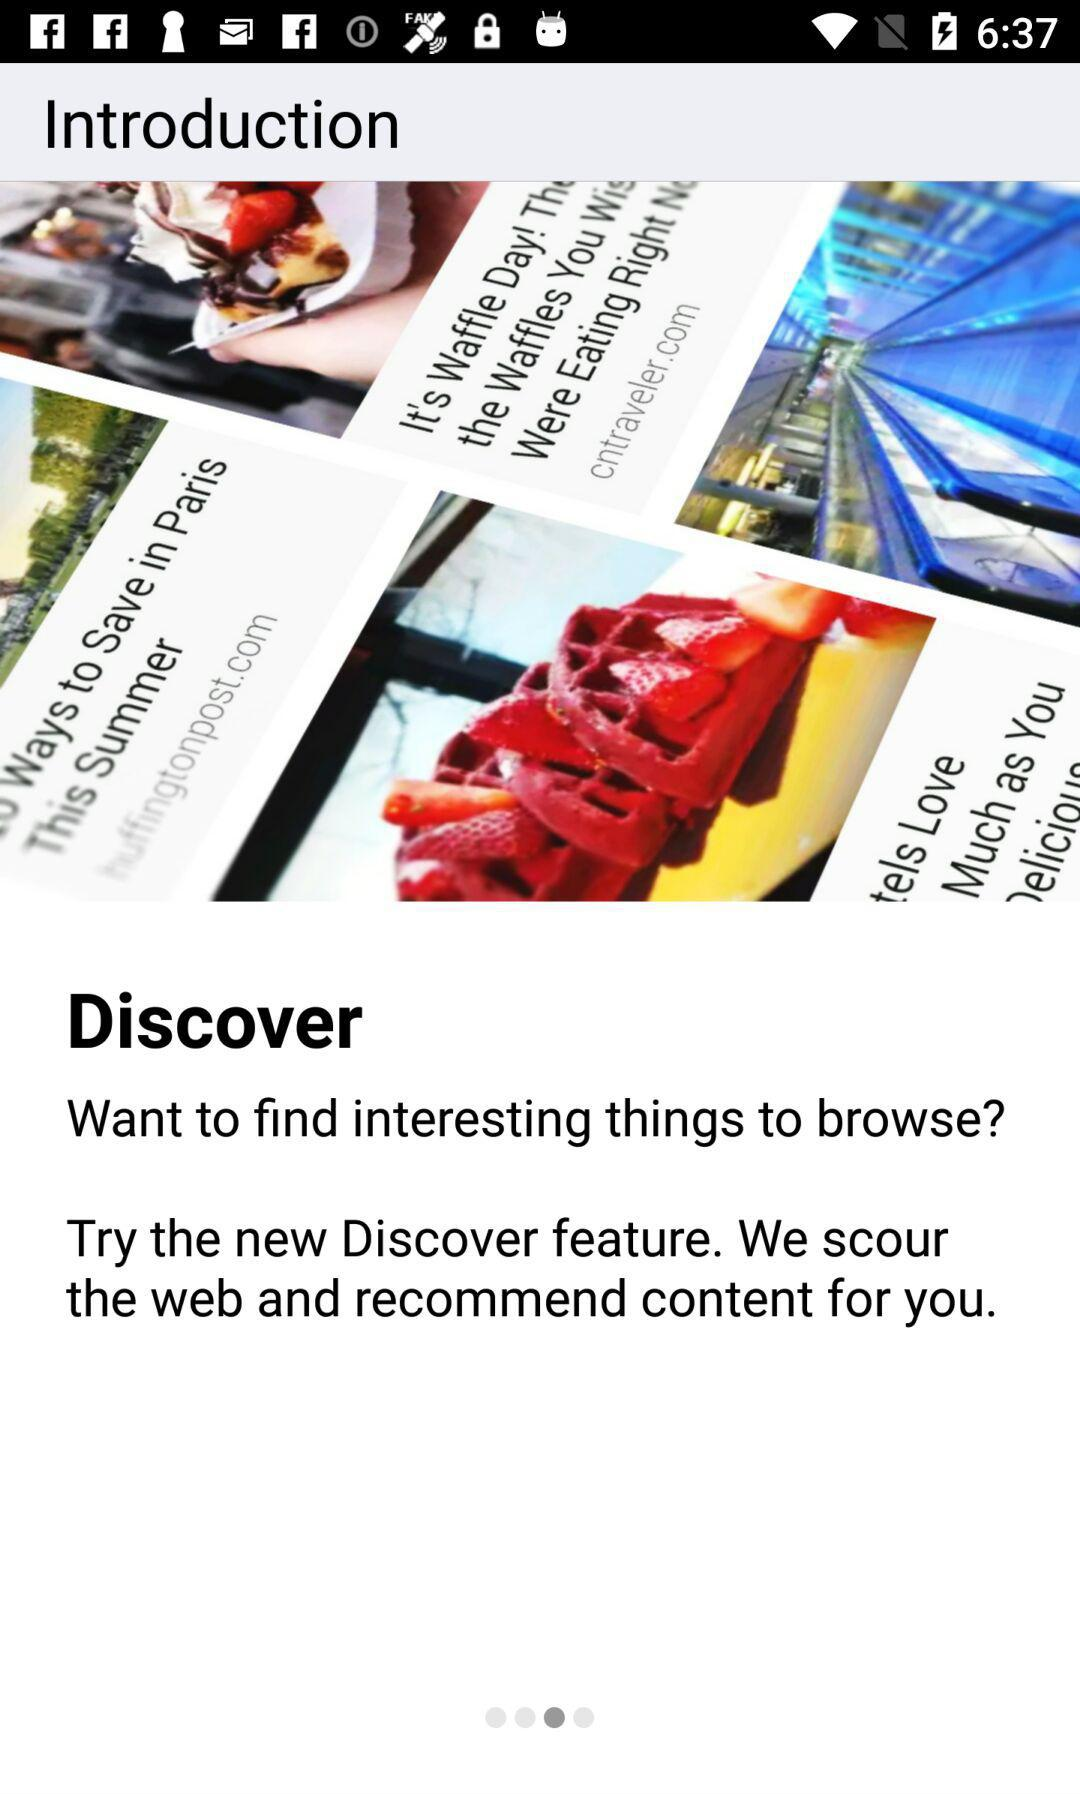Image: (1, 182, 1080, 903)
PageIndicator: (484, 1706, 597, 1730)
Text: (65, 1216, 995, 1329), (67, 1096, 1004, 1149), (47, 97, 401, 152), (69, 989, 364, 1051)
UpperTaskBar: (1, 1, 1080, 64)
